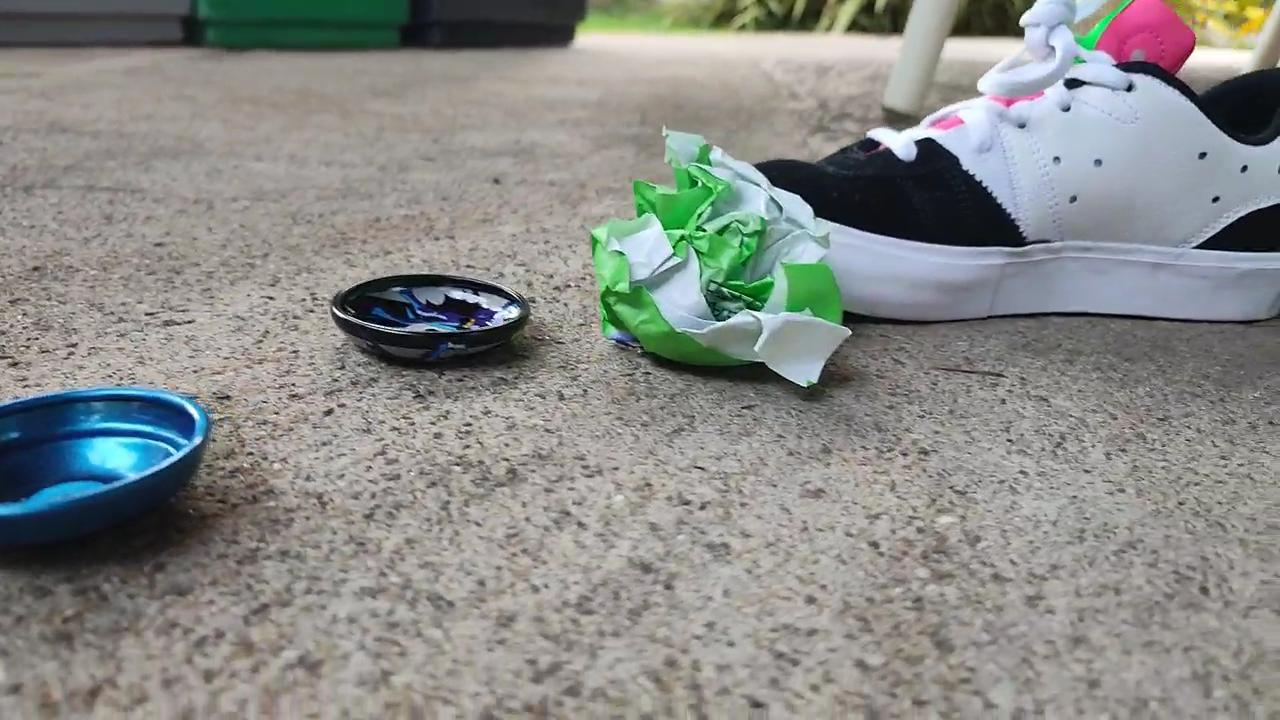Paper: (569, 123, 864, 404)
